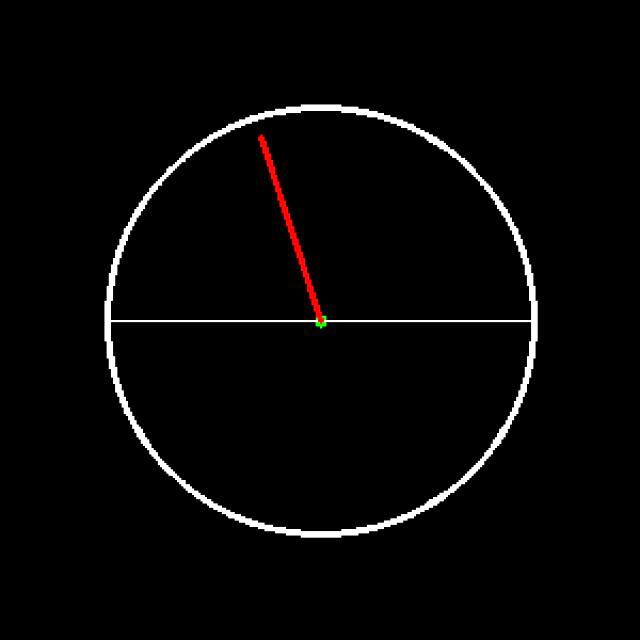Needle_Tip: (245, 117, 286, 164)
Needle_base: (285, 299, 358, 361)
